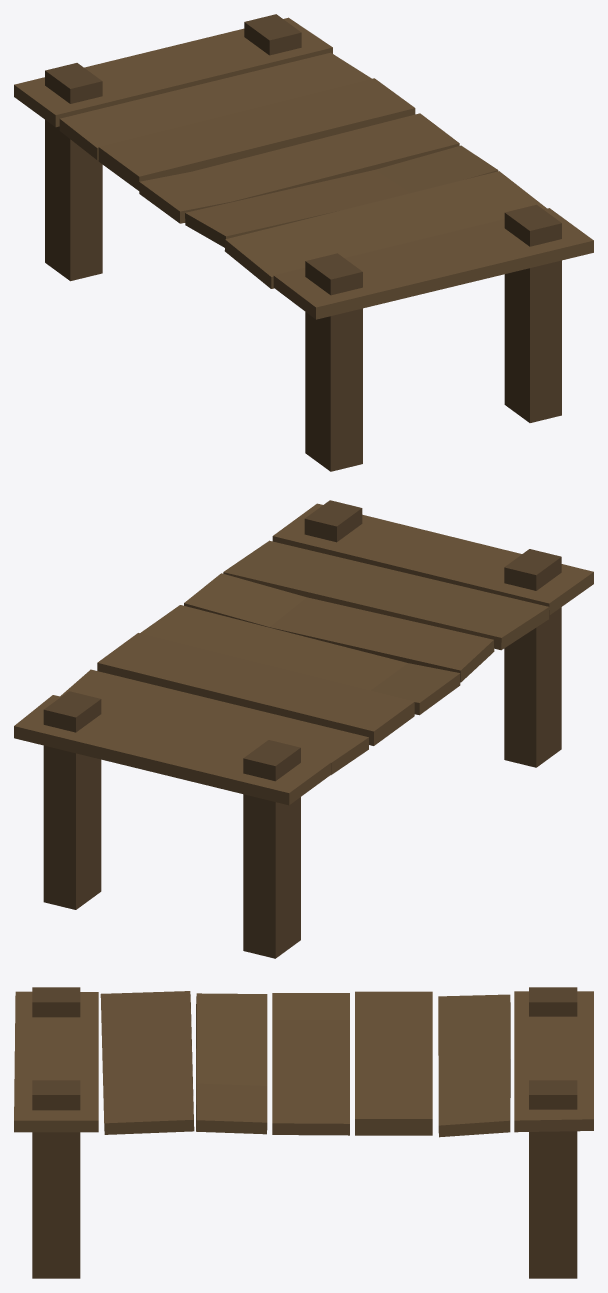
Rendered from Bridge_3.fbx.
3 renders of one model, top to bottom at view 1: azimuth 30°, elevation 25°; view 2: azimuth 150°, elevation 25°; view 3: azimuth 270°, elevation 25°, orthographic. The views are drawn at different scales.
Parts seen in each view (by area): view 1: Bridge_3; view 2: Bridge_3; view 3: Bridge_3.
Boxes of the visible parts, x1,y1,x2,y2 form: Bridge_3: (14,14,593,471); Bridge_3: (14,500,593,958); Bridge_3: (14,987,593,1278).
Size of the model in its own units: 305 by 199 by 569.
